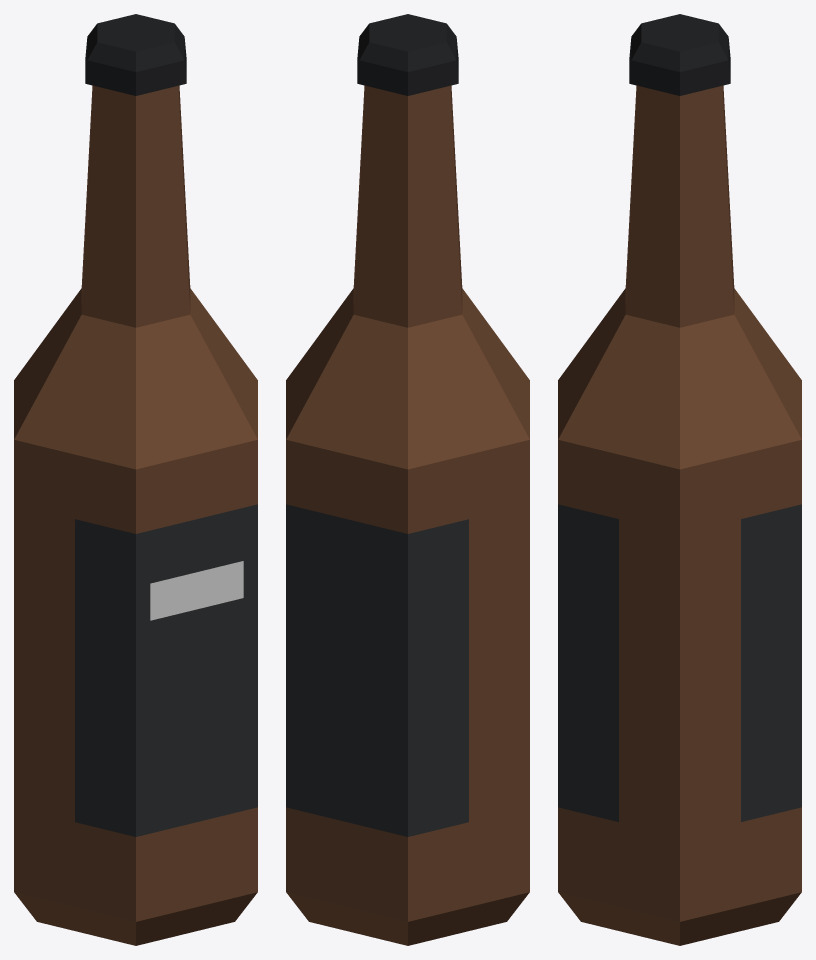
File: SM_Item_Alcohol_01.fbx
The picture shows the model from 3 angles, left to right: view 1: azimuth 30°, elevation 25°; view 2: azimuth 150°, elevation 25°; view 3: azimuth 270°, elevation 25°; orthographic projection.
Parts seen in each view (by area): view 1: SM_Item_Alcohol_01; view 2: SM_Item_Alcohol_01; view 3: SM_Item_Alcohol_01.
Boxes of the visible parts, bbox=[...] form: SM_Item_Alcohol_01: bbox=[14, 14, 257, 945]; SM_Item_Alcohol_01: bbox=[286, 14, 529, 945]; SM_Item_Alcohol_01: bbox=[558, 14, 801, 945].
Bounding box in the file's own units: 14.14 × 47.91 × 12.25.
